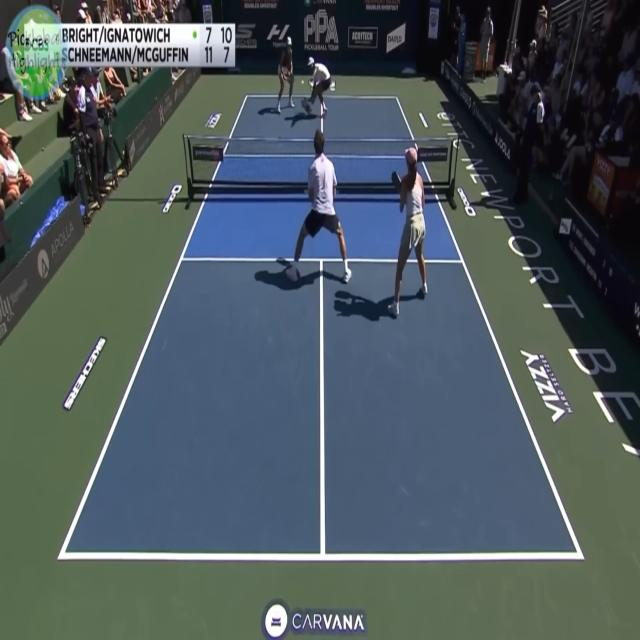ball: (300, 74, 307, 87)
